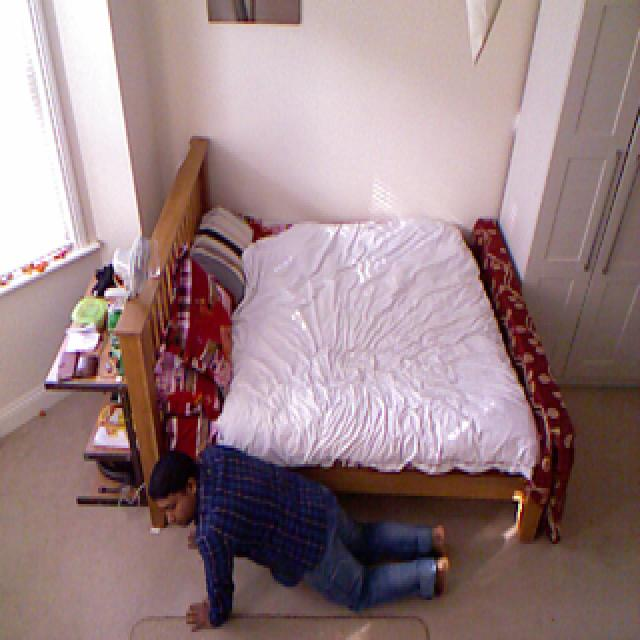crawling: (134, 455, 473, 618)
